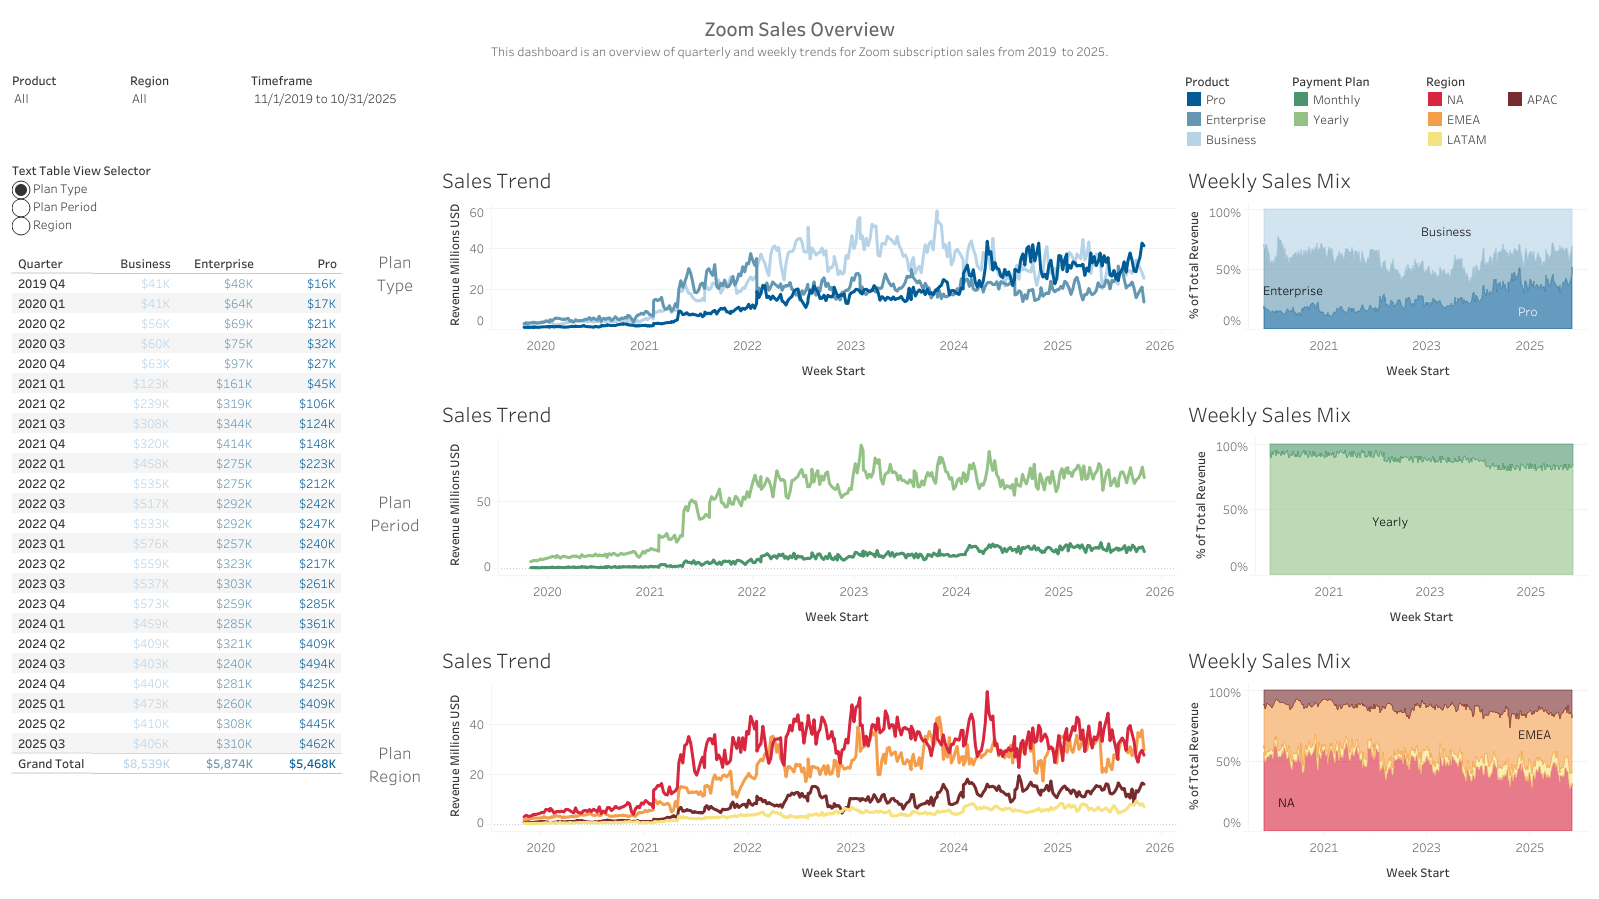

What the dashboard file says about the page in this screenshot:
{"tool":"tableau","page":{"name":"Dashboard 1","canvas":[1600,900],"ordinal":0},"visuals":[{"type":"text","box":[8,8,1584,58]},{"type":"filter","title":"Plan Period - Sales Trend","param":"[federated.0f2fnlx0rbuzie1fgbo6f06om4xq].[none:Product:nk]","box":[8,66,118,90]},{"type":"filter","title":"Plan Period - Sales Trend","param":"[federated.0f2fnlx0rbuzie1fgbo6f06om4xq].[none:Region:nk]","box":[126,66,121,90]},{"type":"filter","title":"Plan Period - Sales Trend","param":"[federated.0f2fnlx0rbuzie1fgbo6f06om4xq].[none:Week_Start_Date:qk]","box":[247,66,933,90]},{"type":"legend","title":"Plan Type - Sales Trend","param":"[federated.0f2fnlx0rbuzie1fgbo6f06om4xq].[none:Product:nk]","box":[1180,66,107,90]},{"type":"legend","title":"Plan Period - Sales Trend","param":"[federated.0f2fnlx0rbuzie1fgbo6f06om4xq].[none:Payment_Plan:nk]","box":[1287,66,134,90]},{"type":"legend","title":"Plan Region - Sales Trend","param":"[federated.0f2fnlx0rbuzie1fgbo6f06om4xq].[none:Region:nk]","box":[1421,66,171,90]},{"type":"parameter","param":"[Parameters].[Parameter 1]","box":[8,156,348,89]},{"type":"text","box":[356,156,78,234]},{"type":"worksheet","title":"Plan Type - Sales Trend","mark":"Automatic","rows":["Revenue_Millions"],"cols":["Week_Start_Date"],"box":[434,156,746,234]},{"type":"worksheet","title":"Plan Type - Weekly Sales Mix","mark":"Area","cols":["Week_Start_Date"],"box":[1180,156,412,234]},{"type":"worksheet","title":"Plan Type - Quarterly Sales","mark":"Automatic","rows":["Quarter"],"cols":["Product"],"box":[8,245,348,529]},{"type":"worksheet","title":"Plan Period - Sales Trend","mark":"Automatic","rows":["Revenue_Millions"],"cols":["Week_Start_Date"],"box":[434,389.9,746,246]},{"type":"worksheet","title":"Plan Period - Weekly Sales Mix","mark":"Area","cols":["Week_Start_Date"],"box":[1180,389.9,412,246]},{"type":"text","box":[356,390,78,246]},{"type":"worksheet","title":"Plan Region - Sales Trend","mark":"Automatic","rows":["Revenue_Millions"],"cols":["Week_Start_Date"],"box":[434,635.9,746,256]},{"type":"worksheet","title":"Plan Region - Weekly Sales Mix","mark":"Area","cols":["Week_Start_Date"],"box":[1180,635.9,412,256]},{"type":"text","box":[356,636,78,256]},{"type":"worksheet","title":"Plan Period - Quarterly Sales","mark":"Automatic","rows":["Quarter"],"cols":["Payment_Plan"],"box":[8,774,348,9]},{"type":"worksheet","title":"Plan Region - Quarterly Sales","mark":"Automatic","rows":["Quarter"],"cols":["Region"],"box":[8,783,348,9]}]}

Visuals, with their boxes in screenshot pixels (x1, y1, x2, y2), scaled from the page's 1600x900 canvas onto the 1599x899 screenshot:
text: 8, 8, 1591, 66
"Plan Period - Sales Trend" filter: 8, 66, 126, 156
"Plan Period - Sales Trend" filter: 126, 66, 247, 156
"Plan Period - Sales Trend" filter: 247, 66, 1179, 156
"Plan Type - Sales Trend" legend: 1179, 66, 1286, 156
"Plan Period - Sales Trend" legend: 1286, 66, 1420, 156
"Plan Region - Sales Trend" legend: 1420, 66, 1591, 156
parameter: 8, 156, 356, 245
text: 356, 156, 434, 390
"Plan Type - Sales Trend" worksheet: 434, 156, 1179, 390
"Plan Type - Weekly Sales Mix" worksheet (Area marks): 1179, 156, 1591, 390
"Plan Type - Quarterly Sales" worksheet: 8, 245, 356, 773
"Plan Period - Sales Trend" worksheet: 434, 389, 1179, 635
"Plan Period - Weekly Sales Mix" worksheet (Area marks): 1179, 389, 1591, 635
text: 356, 390, 434, 635
"Plan Region - Sales Trend" worksheet: 434, 635, 1179, 891
"Plan Region - Weekly Sales Mix" worksheet (Area marks): 1179, 635, 1591, 891
text: 356, 635, 434, 891
"Plan Period - Quarterly Sales" worksheet: 8, 773, 356, 782
"Plan Region - Quarterly Sales" worksheet: 8, 782, 356, 791
